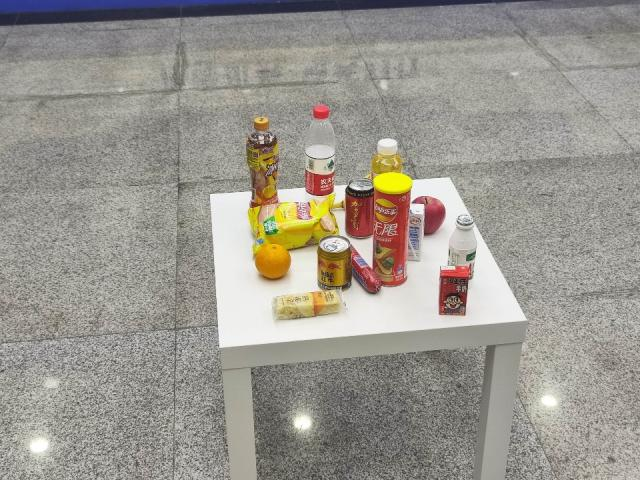Canned_drinks: (315, 235, 356, 290), (343, 178, 378, 240)
